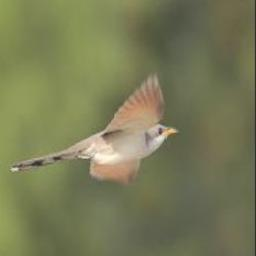Cuckoo: (10, 75, 178, 179)
